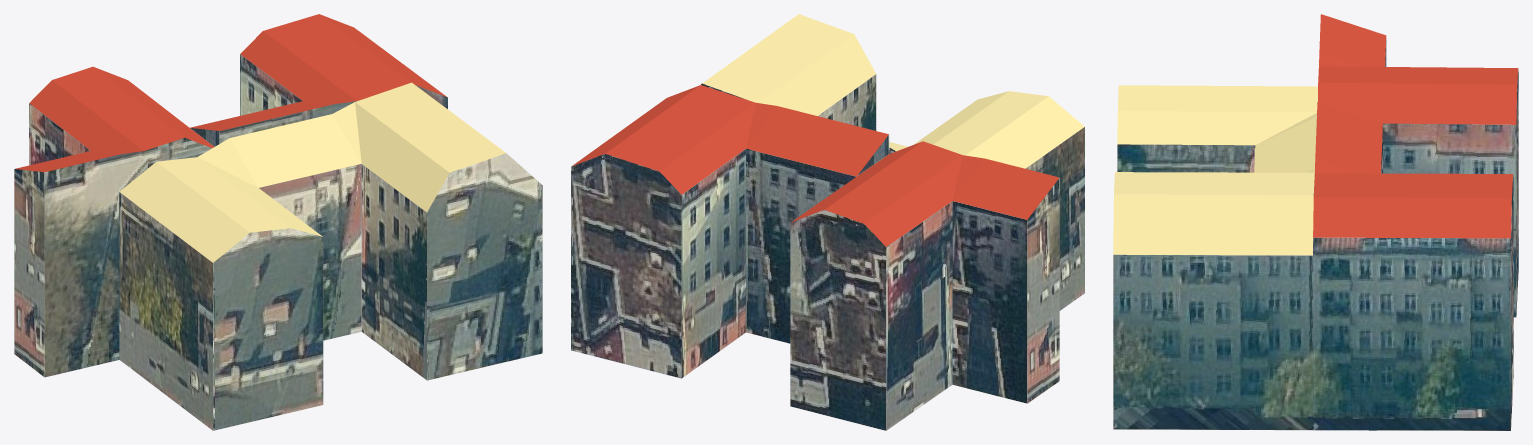
The picture shows the model from 3 angles, left to right: view 1: azimuth 30°, elevation 25°; view 2: azimuth 150°, elevation 25°; view 3: azimuth 270°, elevation 25°; orthographic projection. The views are drawn at different scales.
Size of the model in its own units: 44.63 by 22.2 by 37.58.
3 materials, 1 textured.
